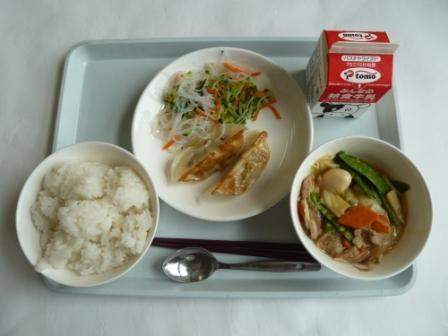Milk: (310, 22, 390, 117)
Rice: (11, 136, 165, 291)
Salad: (152, 52, 277, 132)
tushpara-fried: (174, 131, 275, 197)
vegetable based cooked food: (297, 138, 434, 276)
